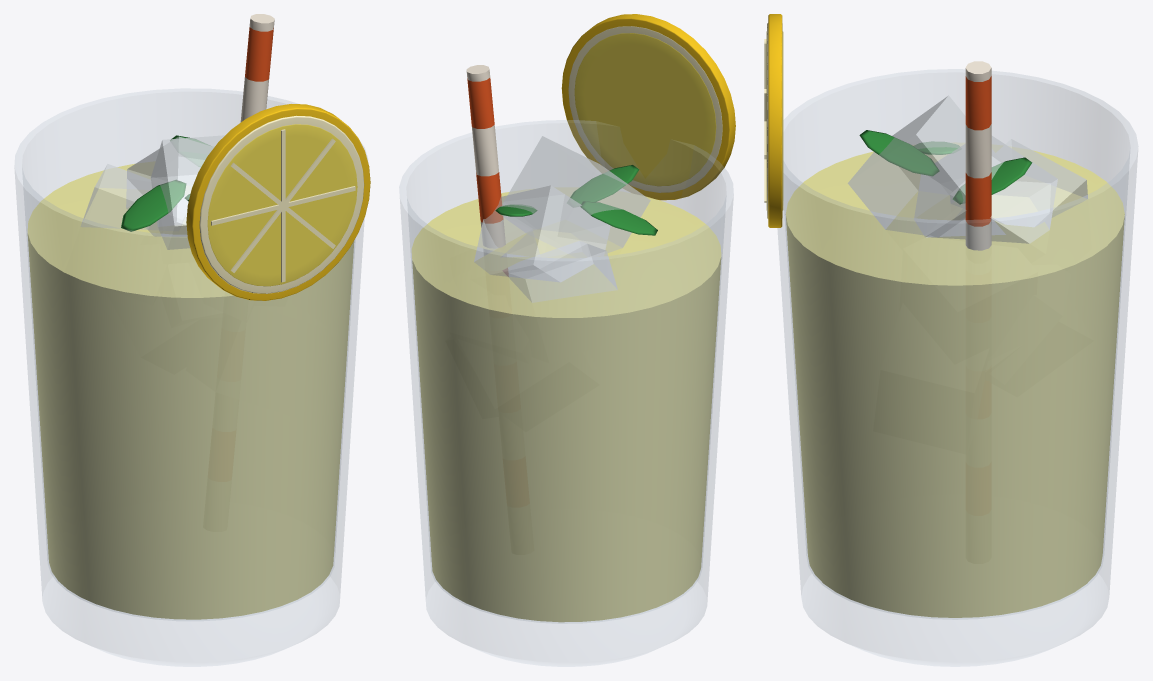
File: limonada-suica.glb
3 views of the same model, side by side, from view 1: azimuth 30°, elevation 25°; view 2: azimuth 150°, elevation 25°; view 3: azimuth 270°, elevation 25° (orthographic). The views are drawn at different scales.
Visible parts, largest first — view 1: limonada-suica; view 2: limonada-suica; view 3: limonada-suica.
Part boxes in pixels (bbox=[...]): limonada-suica: bbox=[14, 14, 370, 666]; limonada-suica: bbox=[399, 14, 735, 666]; limonada-suica: bbox=[764, 14, 1138, 666].
Bounding box in the file's own units: 0.079 × 0.14 × 0.0807.
